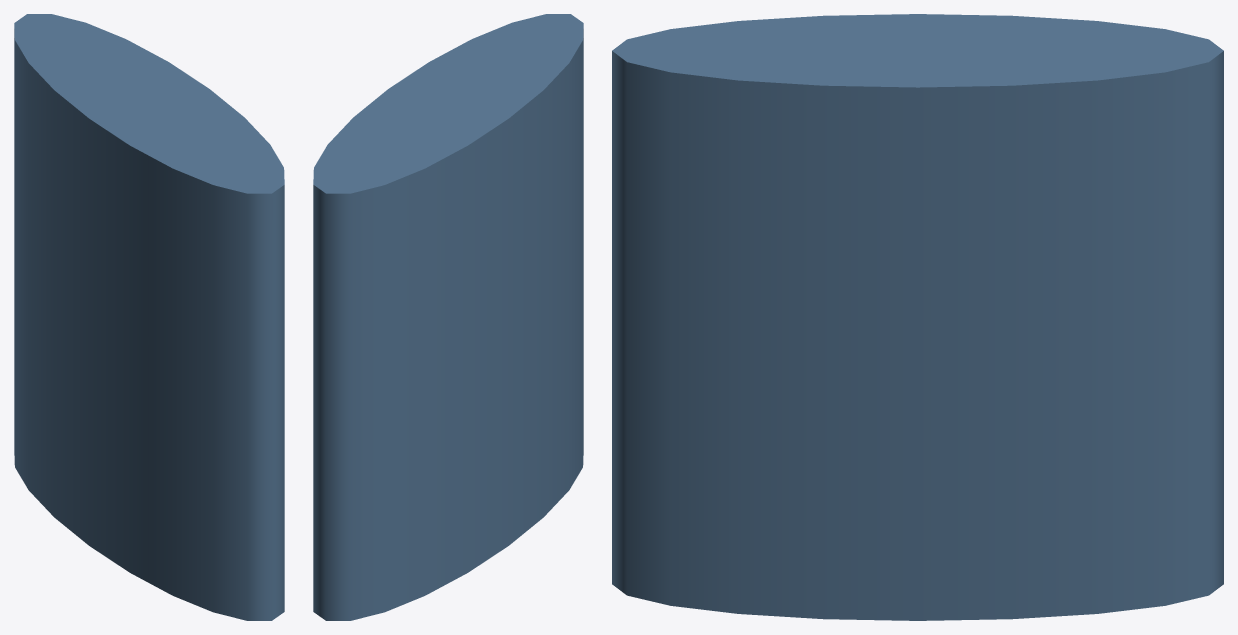
File: pecera.obj
3 views of the same model, side by side, from view 1: azimuth 30°, elevation 25°; view 2: azimuth 150°, elevation 25°; view 3: azimuth 270°, elevation 25° (orthographic). The views are drawn at different scales.
Visible parts, largest first — view 1: polySurface21 polySurface17; view 2: polySurface21 polySurface17; view 3: polySurface21 polySurface17.
Part boxes in pixels (box(x1,y1,x2,y2)): polySurface21 polySurface17: box(14, 14, 284, 620); polySurface21 polySurface17: box(313, 14, 583, 620); polySurface21 polySurface17: box(612, 14, 1223, 620).
Size of the model in its own units: 0.7033 by 2.38 by 2.47.
1 material, 1 textured.
